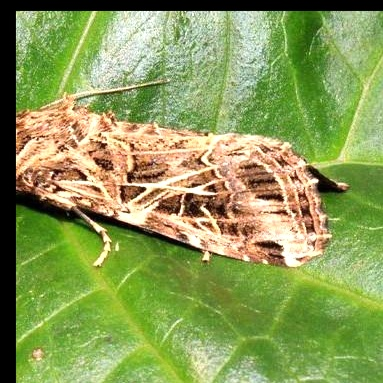Spodoptera litura: (16, 78, 349, 267)
